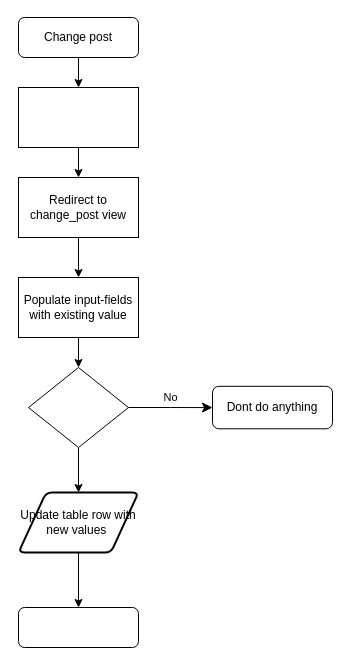
Some shapes in this 350 by 665 pixel diagram are drawn without their labels. Each missing label, with the box of its shape:
Collect post title by id: (18, 86, 138, 148)
Publish again -pushed?: (28, 366, 128, 448)
Redirect to blog: (18, 606, 138, 648)
